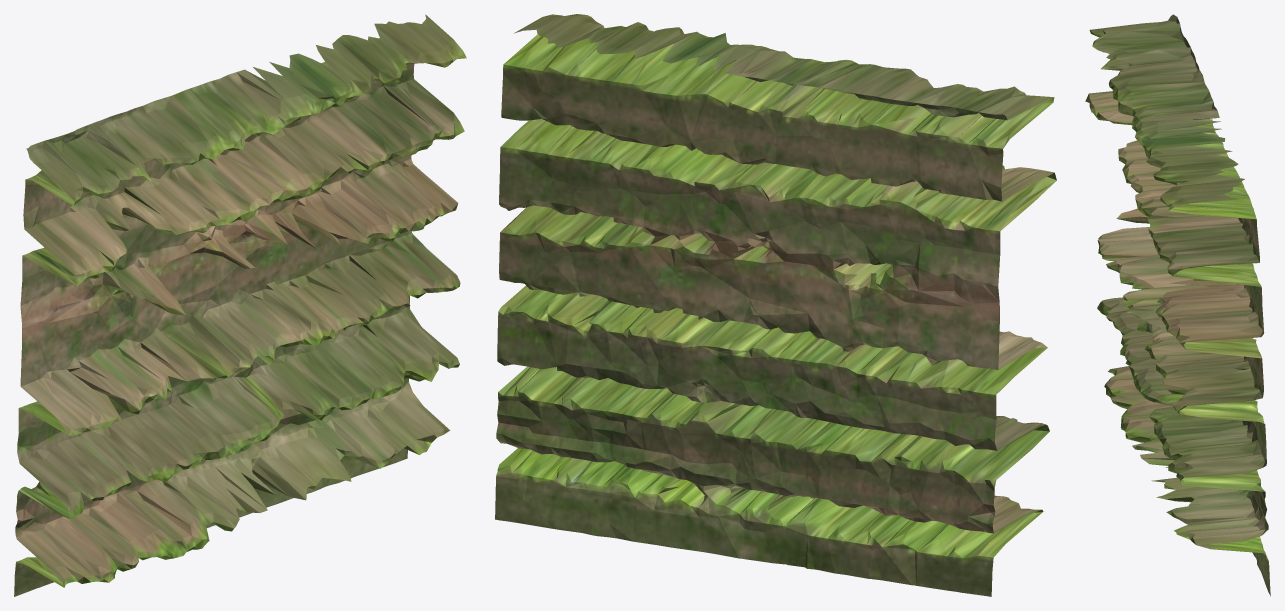
The model's file is map_250_50.obj.
The picture shows the model from 3 angles, left to right: view 1: azimuth 30°, elevation 25°; view 2: azimuth 150°, elevation 25°; view 3: azimuth 270°, elevation 25°; orthographic projection. The views are drawn at different scales.
Visible parts, largest first — view 1: grp1; view 2: grp1; view 3: grp1.
Part boxes in pixels (x1,y1,x2,y2): grp1: [14, 14, 466, 596]; grp1: [495, 14, 1056, 596]; grp1: [1085, 14, 1270, 596].
Size of the model in its own units: 10 by 10 by 4.23.
Materials: 1 (1 with a texture image).
